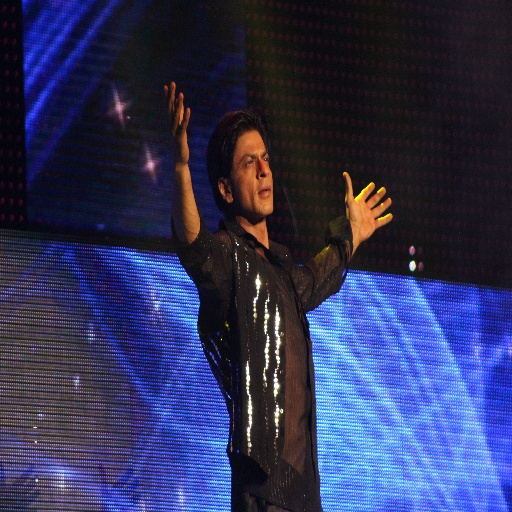hand: (326, 175, 405, 257), (161, 81, 189, 164)
